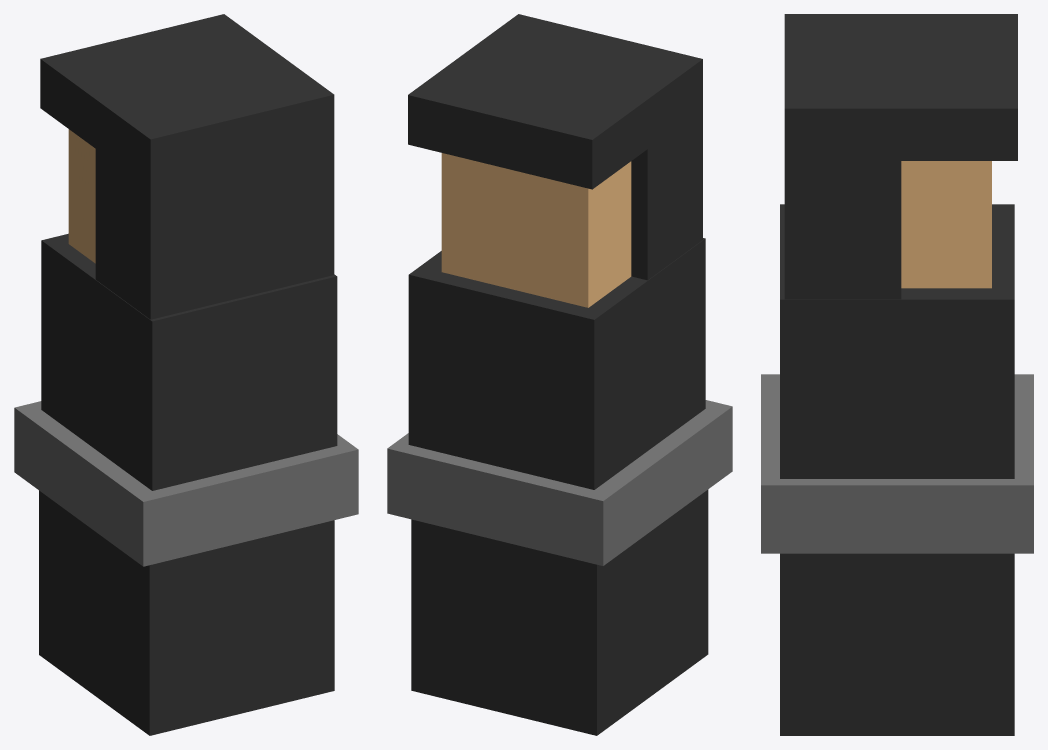
File: Walker.fbx
The picture shows the model from 3 angles, left to right: view 1: azimuth 30°, elevation 25°; view 2: azimuth 150°, elevation 25°; view 3: azimuth 270°, elevation 25°; orthographic projection. The views are drawn at different scales.
Visible parts, largest first — view 1: Helmet, Lawas ug Dugo, Tiil, Bakus, Ulo; view 2: Lawas ug Dugo, Tiil, Helmet, Bakus, Ulo; view 3: Helmet, Lawas ug Dugo, Tiil, Bakus, Ulo.
Boxes of the visible parts, x1=… form: Helmet: x1=40, y1=14, x2=334, y2=319; Lawas ug Dugo: x1=41, y1=233, x2=337, y2=490; Tiil: x1=39, y1=490, x2=334, y2=735; Bakus: x1=14, y1=401, x2=358, y2=566; Ulo: x1=68, y1=129, x2=95, y2=263; Lawas ug Dugo: x1=408, y1=238, x2=705, y2=489; Tiil: x1=411, y1=489, x2=708, y2=735; Helmet: x1=408, y1=14, x2=702, y2=280; Bakus: x1=387, y1=400, x2=732, y2=565; Ulo: x1=441, y1=153, x2=631, y2=307; Helmet: x1=784, y1=14, x2=1017, y2=299; Lawas ug Dugo: x1=780, y1=204, x2=1014, y2=478; Tiil: x1=780, y1=553, x2=1014, y2=735; Bakus: x1=761, y1=374, x2=1033, y2=553; Ulo: x1=901, y1=161, x2=991, y2=288.
Bounding box in the file's own units: 16.68 × 44 × 17.32.
